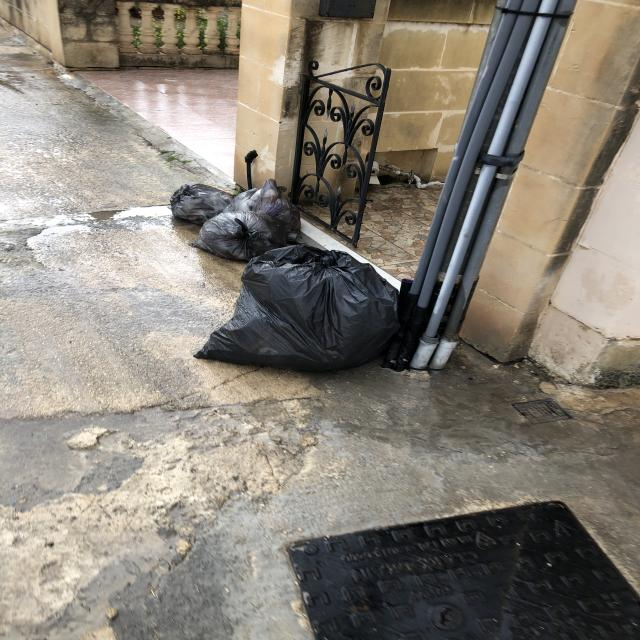Mixed Waste -Black Bag-: (196, 249, 398, 373), (201, 180, 301, 263), (174, 184, 239, 224)
